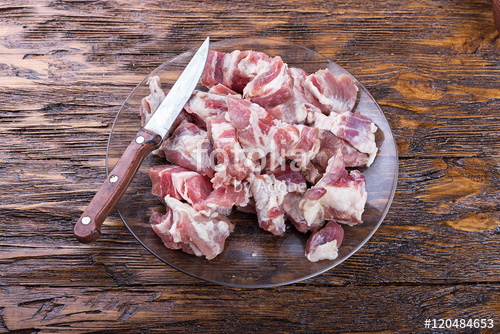bacon: (198, 67, 362, 244)
